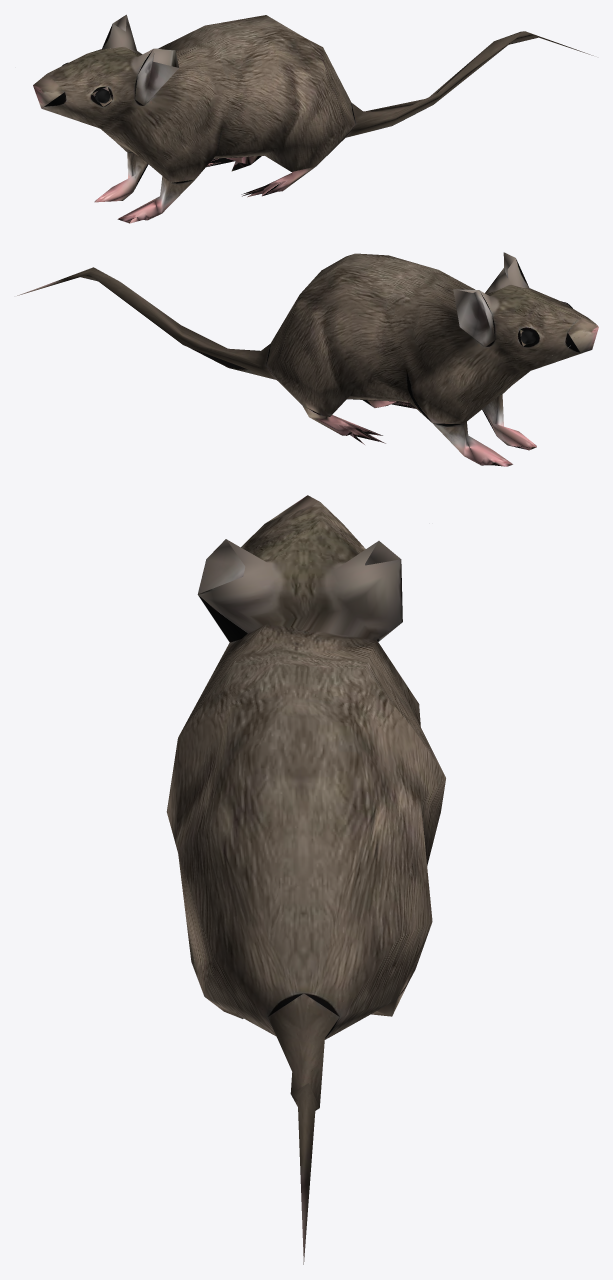
File: mouse_3D.glb
3 views of the same model, one above another, from view 1: azimuth 30°, elevation 25°; view 2: azimuth 150°, elevation 25°; view 3: azimuth 270°, elevation 25° (orthographic). The views are drawn at different scales.
Parts seen in each view (by area): view 1: Object_4; view 2: Object_4; view 3: Object_4.
Boxes of the visible parts, x1,y1,x2,y2 form: Object_4: (33,14,593,223); Object_4: (17,252,598,466); Object_4: (166,495,445,1264).
Size of the model in its own units: 4.68 by 1.37 by 1.
Materials: 3 (1 with a texture image).
